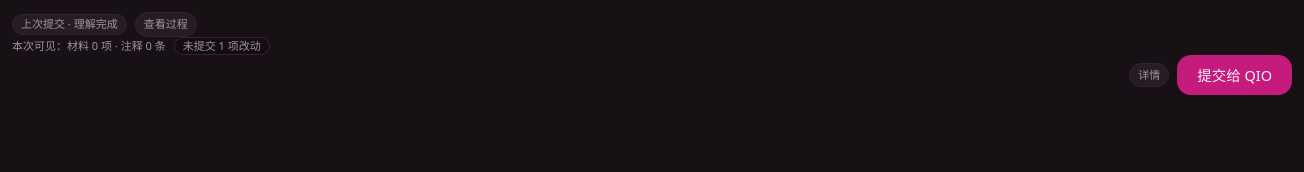
it: 三类面板互斥、可收起，且 aria 指向真实面板 › chip 打开「上次提交结果」，同一入口再点收起
What coordinates should you click on to do the following:
click the button "上次提交 · 理解完成"
I would click on:
 (69, 24)
Its box is [12,14,127,35].
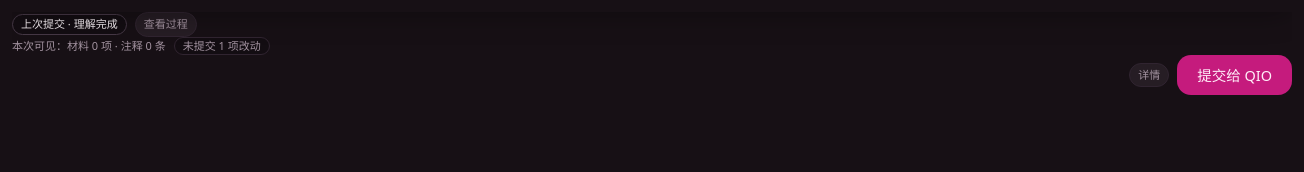
Result: the button "上次提交 · 理解完成" is expanded
What coordinates should you click on to do the following:
click the button "上次提交 · 理解完成"
I would click on:
 (69, 24)
Its box is [12,14,127,35].
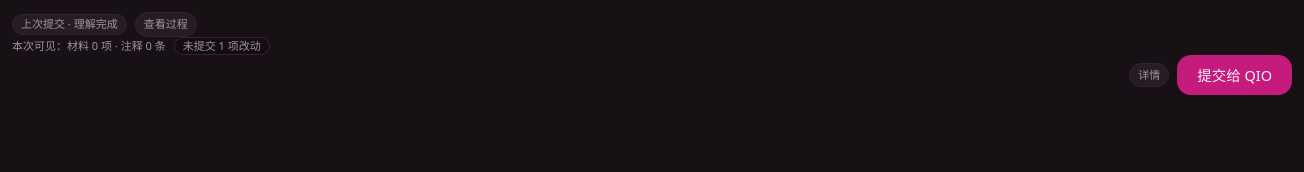
Result: the button "上次提交 · 理解完成" is collapsed at [12,14,127,35]
